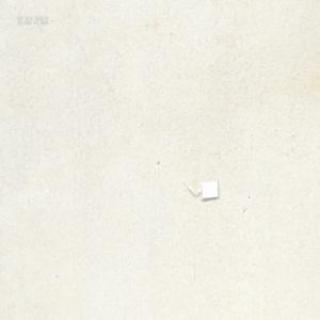LuggageTagtrack_idkeyframe: (180, 178, 218, 201)
